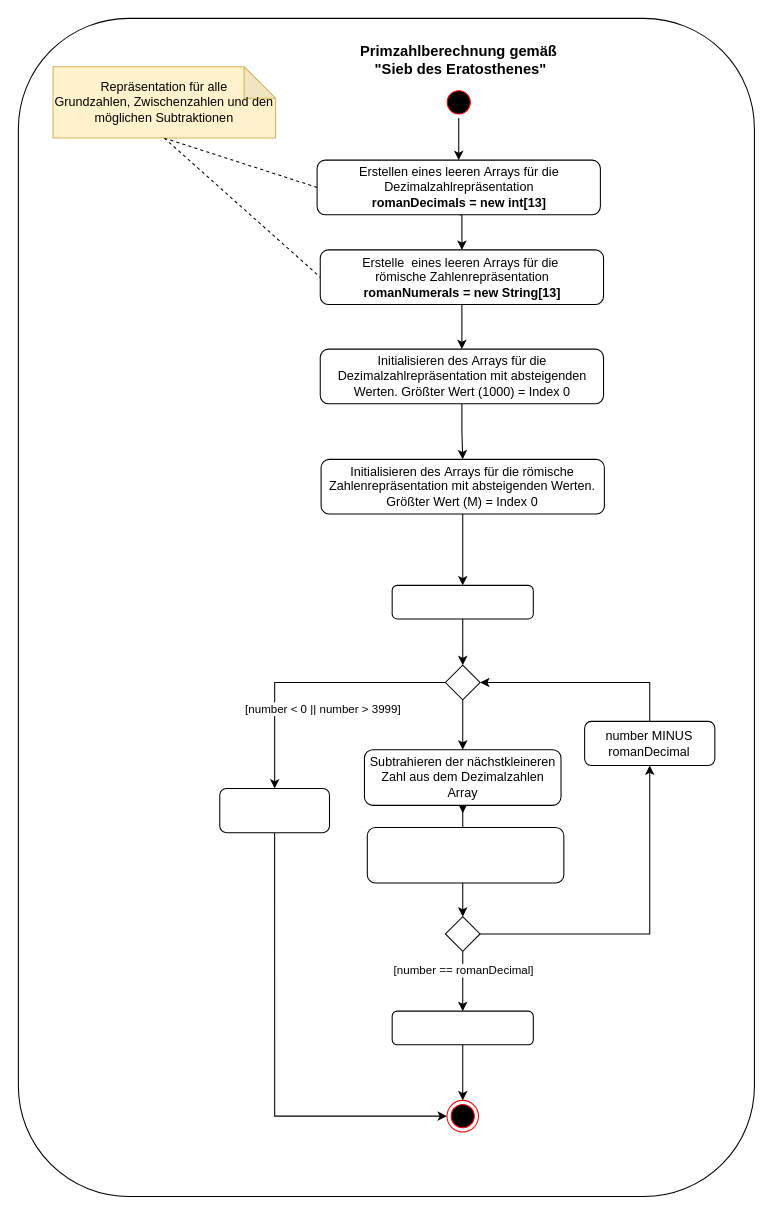
This 773x1215 diagram has some shape labels left out. The centre of each missing label's shape, as x and y in pixels:
"Ausgabe römische Zahl romanNumeral" belongs at (462,1027).
"Eingabe number" belongs at (462,601).
"Fehlerausgabe" belongs at (274,810).
"römische Zahl des romanNumerals Arrays konkatenieren in romanNumeral" belongs at (465,854).
